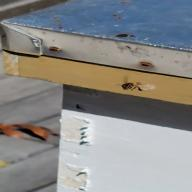Bee: (111, 75, 158, 97)
